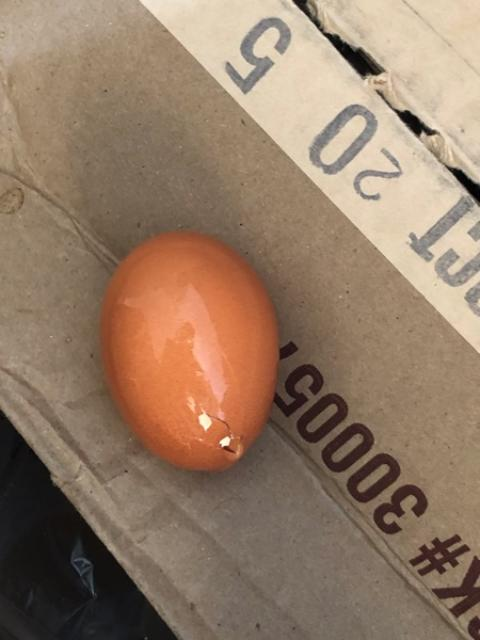Roto: (97, 228, 281, 473)
